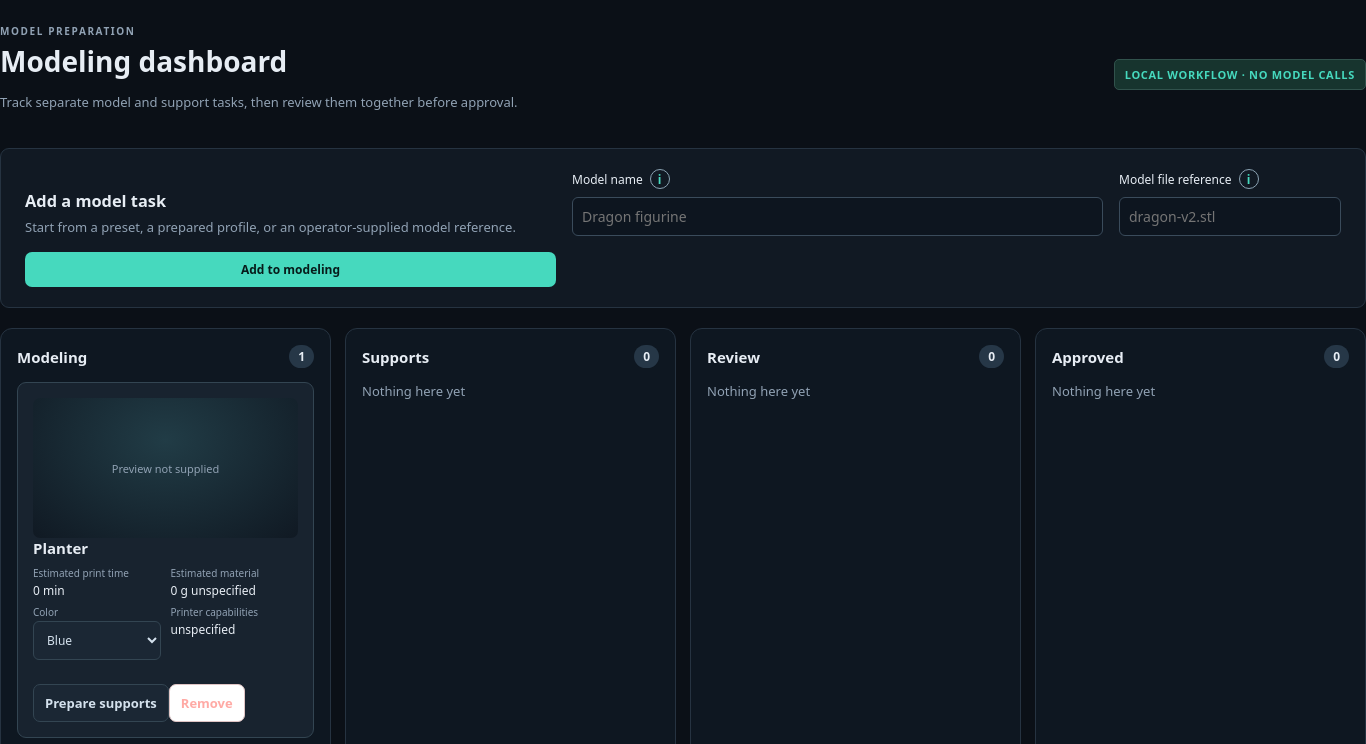
Test case: keeps a task visible and reports an error if removal fails
The image size is (1366, 744).
Step 1. Click the button with aria-label "Remove Planter" → coordinates (207, 703), box [169,684,245,722]
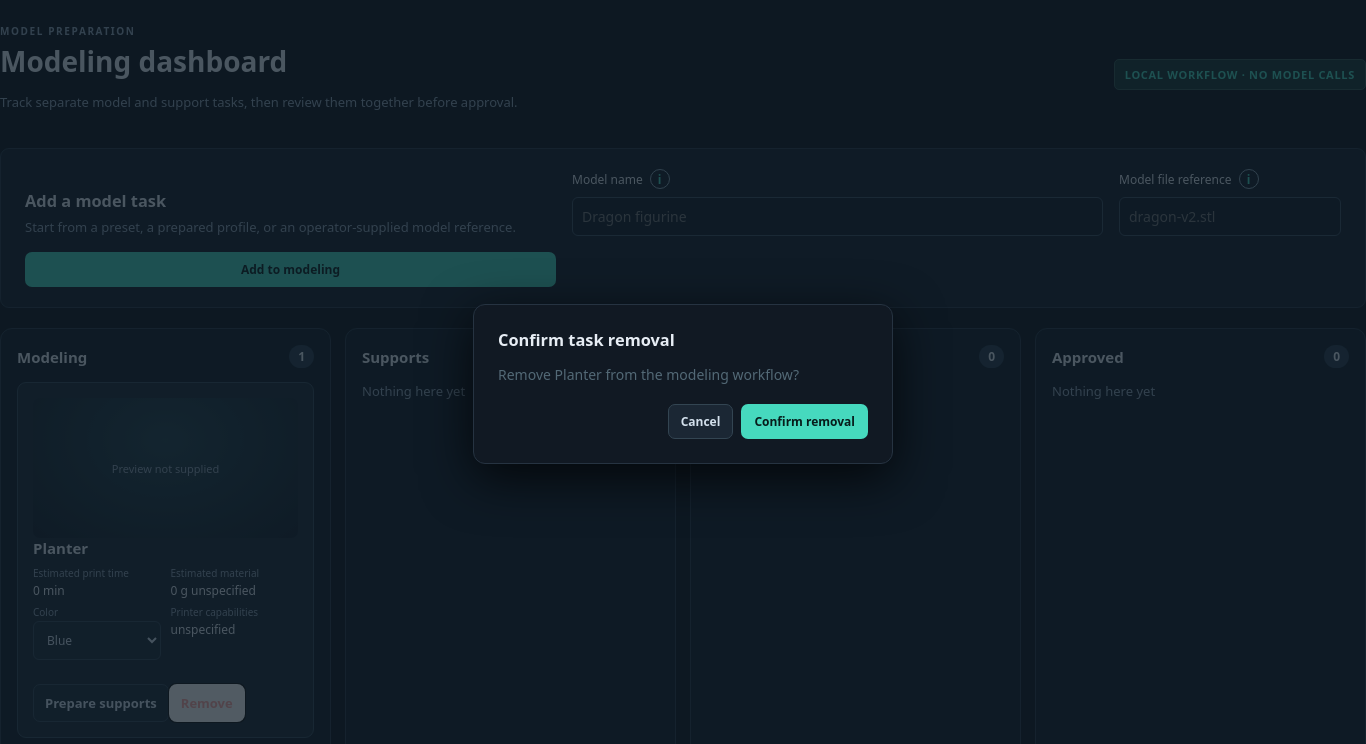
Step 2. Click the button "Confirm removal" → coordinates (805, 422), box [741,404,868,439]
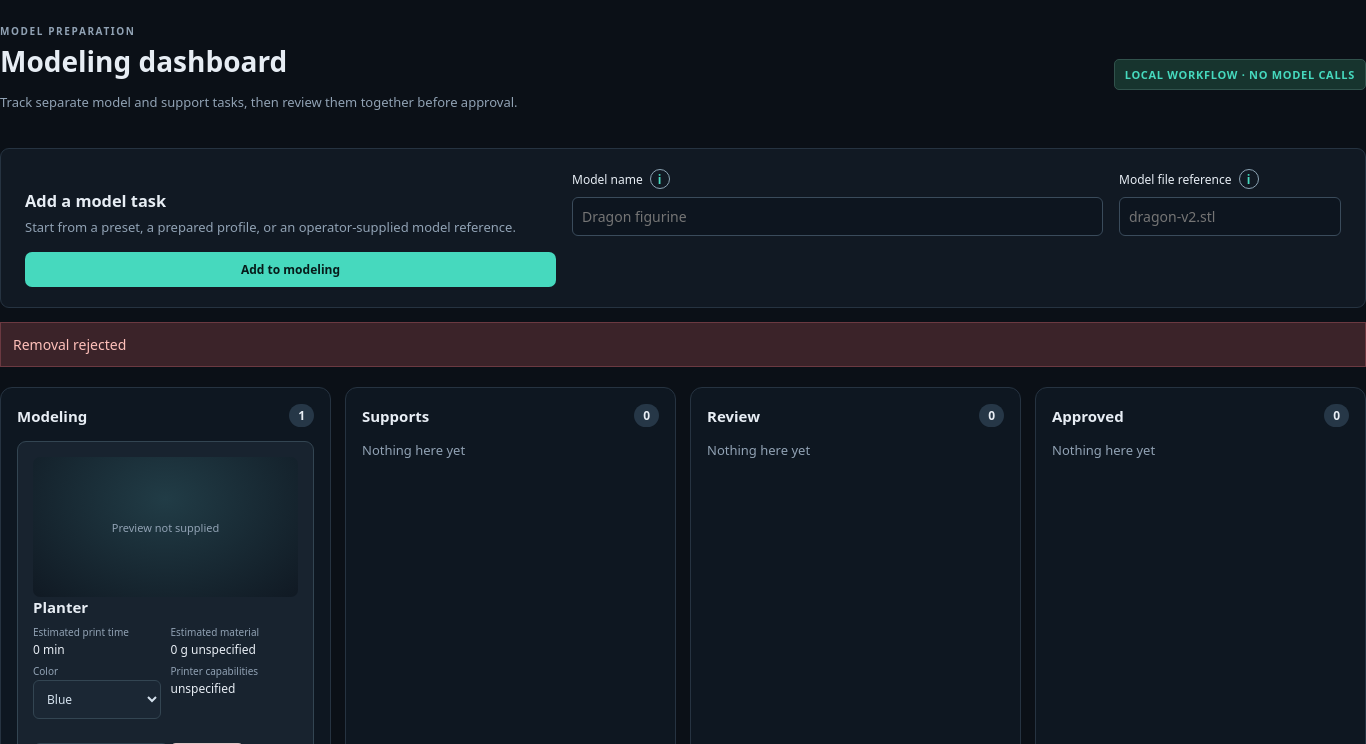
Expected: the heading "Planter" is shown, [33,597,88,617]
Expected: the message reads "Removal rejected", [13,335,126,354]
